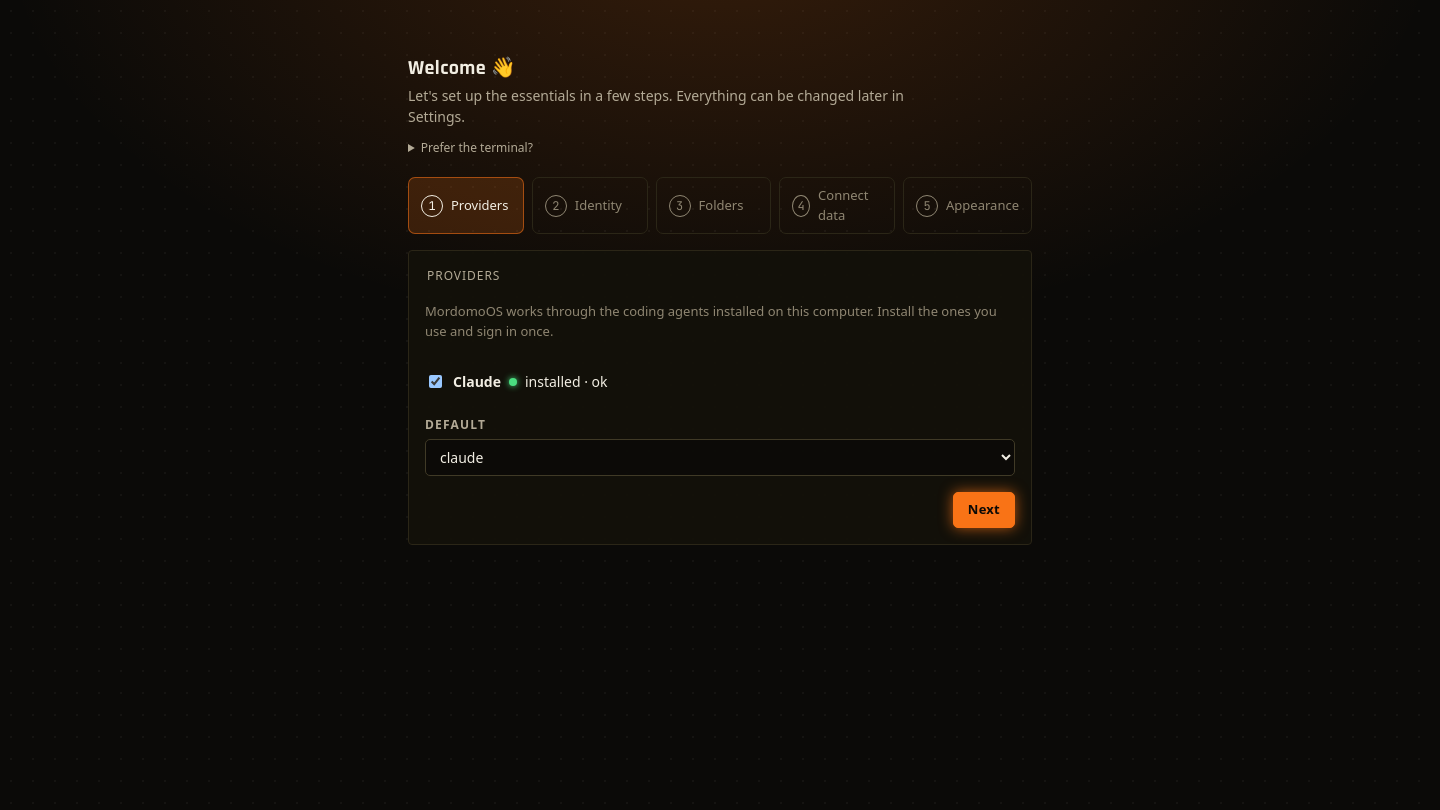
Test case: C10 the steps of the Setup › C10 five steps ending in the appearance, no HUD anywhere (en)
Click the button "Next" at [984, 510], box x1=953 y1=492 x2=1015 y2=528
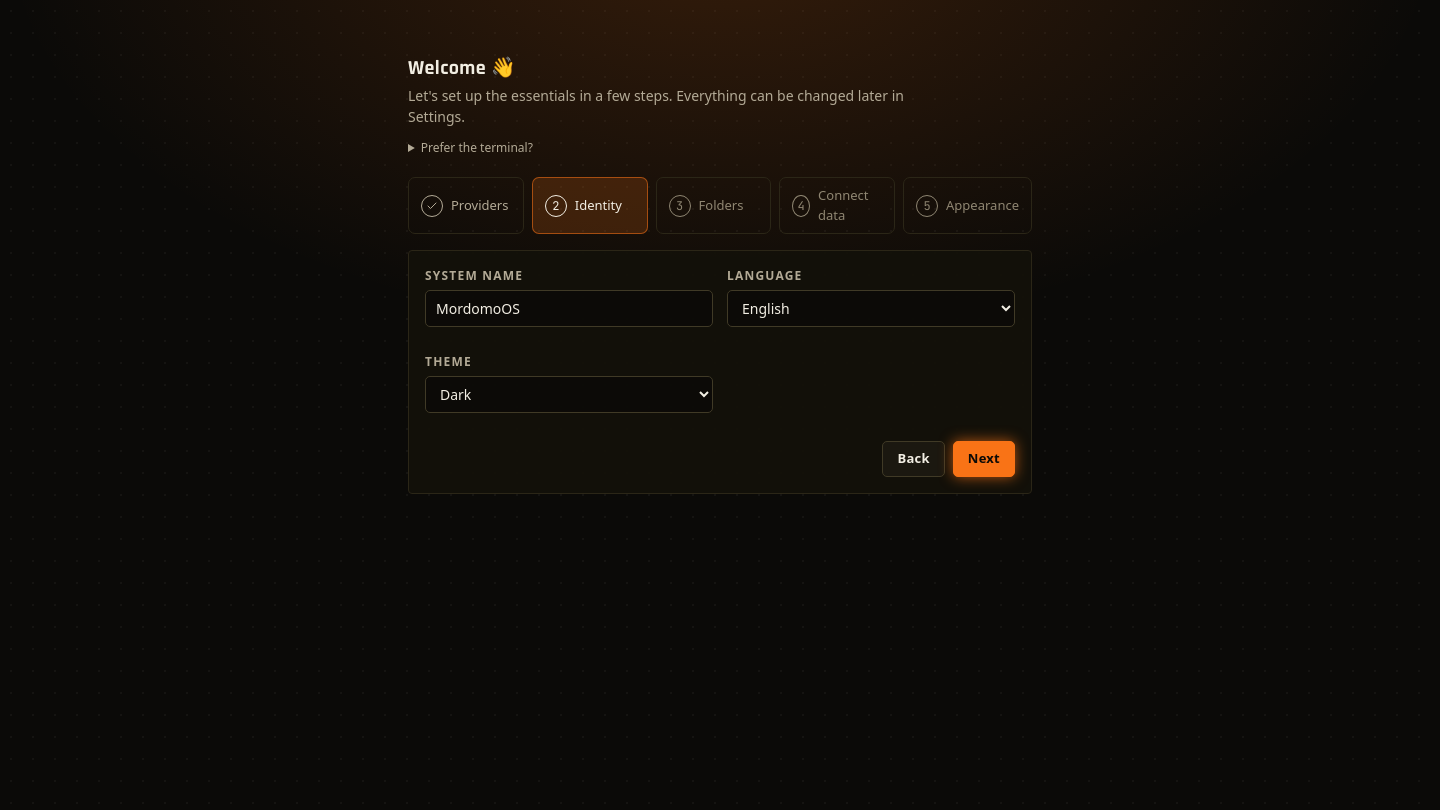
Click the button "Next" at [984, 459], box x1=953 y1=441 x2=1015 y2=477
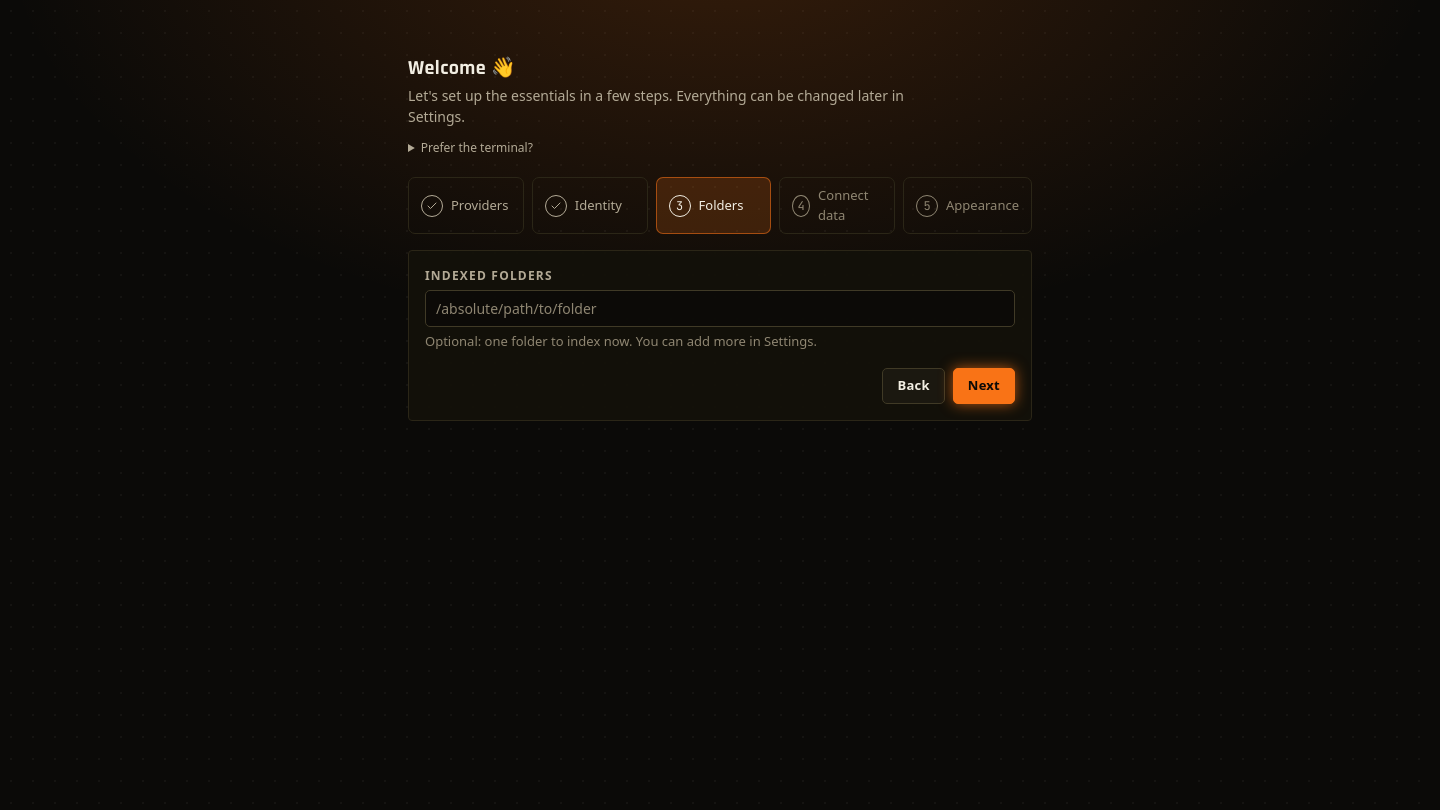
Click the button "Next" at [984, 386], box x1=953 y1=368 x2=1015 y2=404
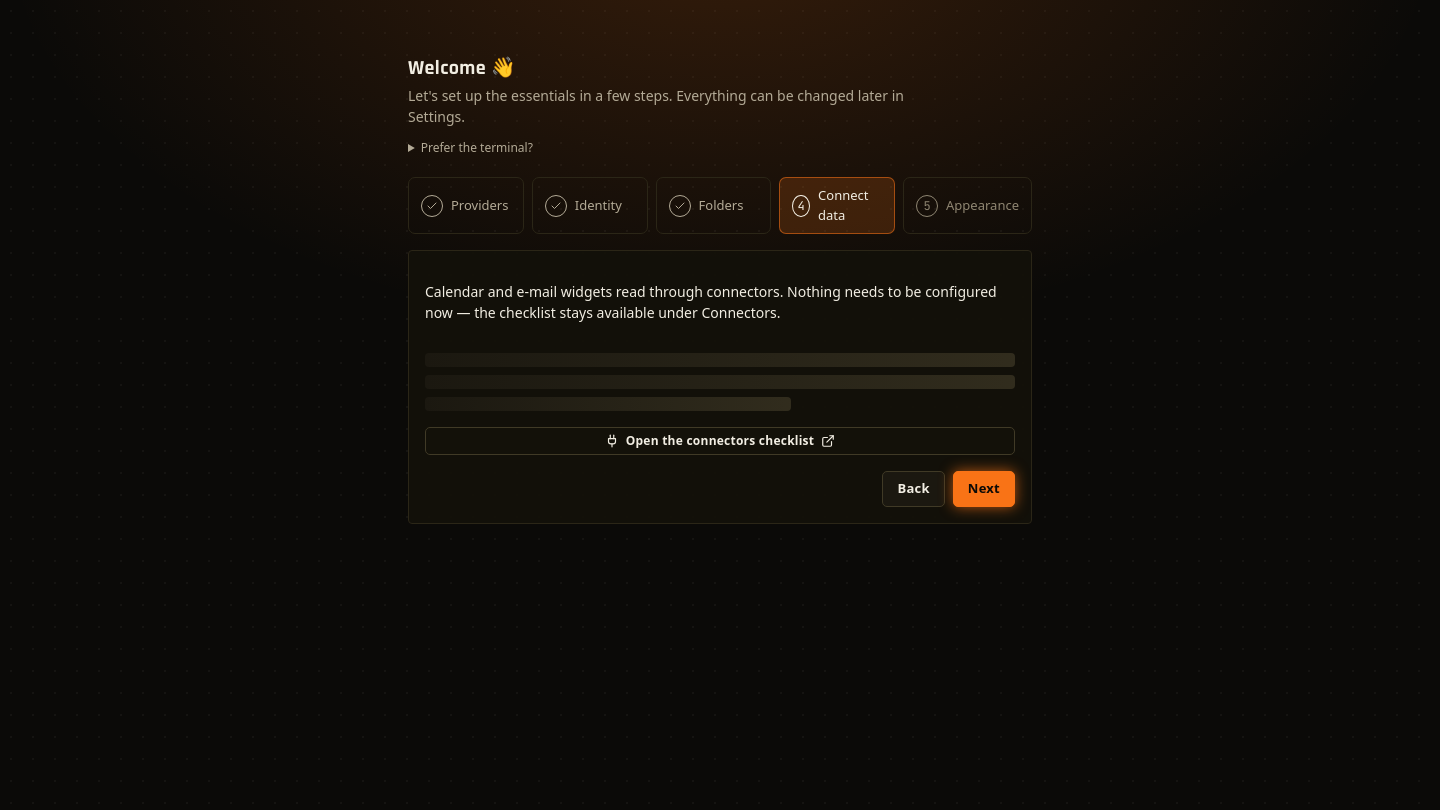
Click the button "Next" at [984, 489], box x1=953 y1=471 x2=1015 y2=507
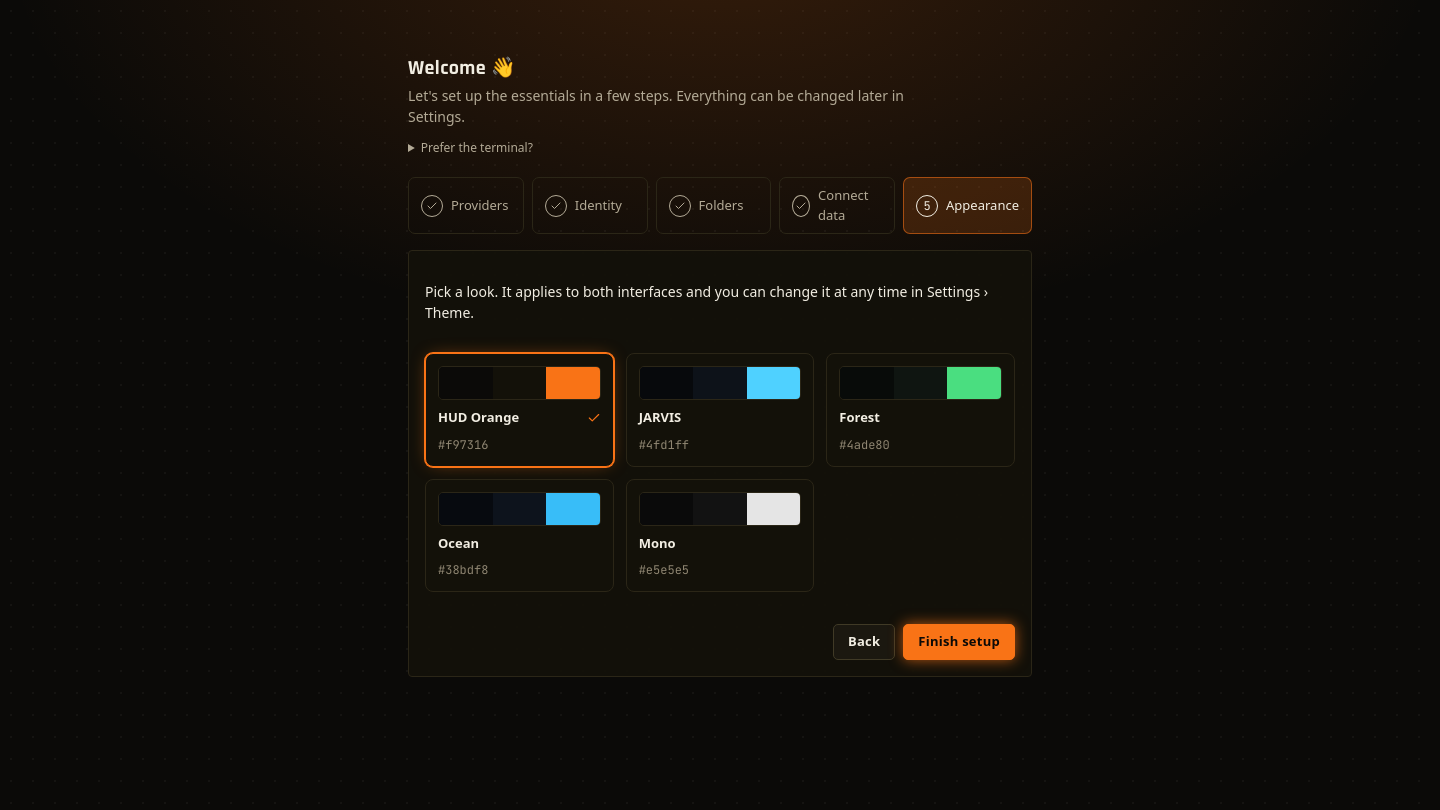
Check: the button "Finish setup" is shown, box x1=903 y1=624 x2=1015 y2=660
